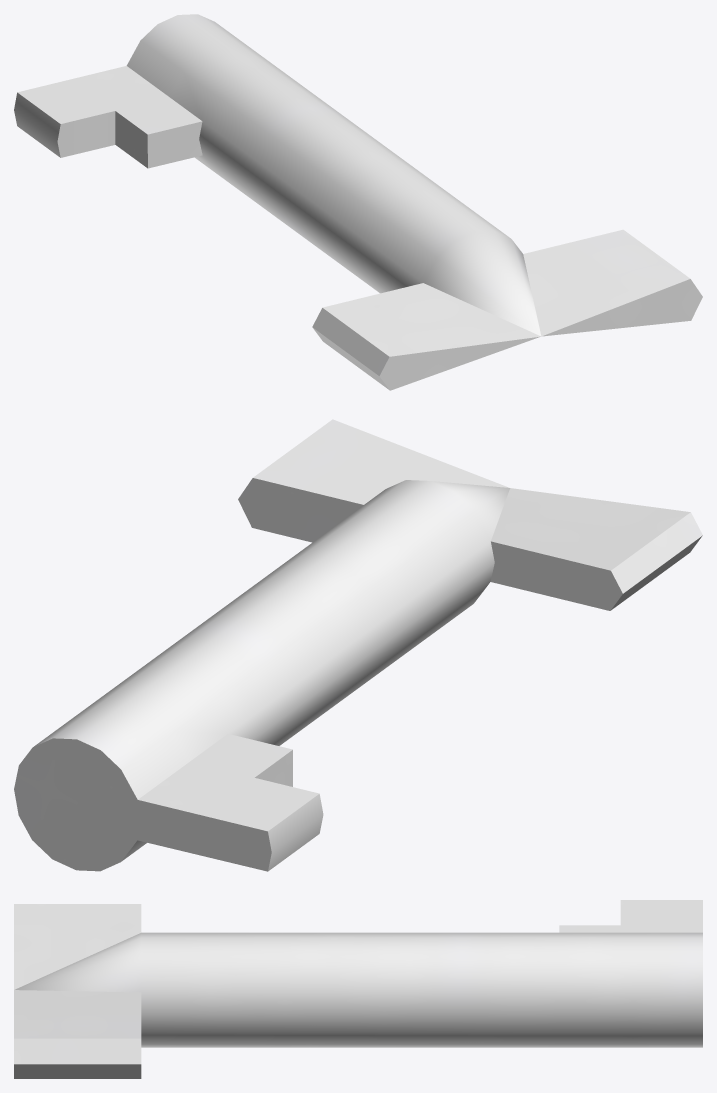
File: Key.fbx
The picture shows the model from 3 angles, top to bottom: view 1: azimuth 30°, elevation 25°; view 2: azimuth 150°, elevation 25°; view 3: azimuth 270°, elevation 25°; orthographic projection. The views are drawn at different scales.
Parts seen in each view (by area): view 1: Key; view 2: Key; view 3: Key.
Boxes of the visible parts, x1,y1,x2,y2 form: Key: (14,14,702,390); Key: (14,419,702,871); Key: (14,900,702,1078).
Bounding box in the file's own units: 2.58 × 0.8356 × 5.
